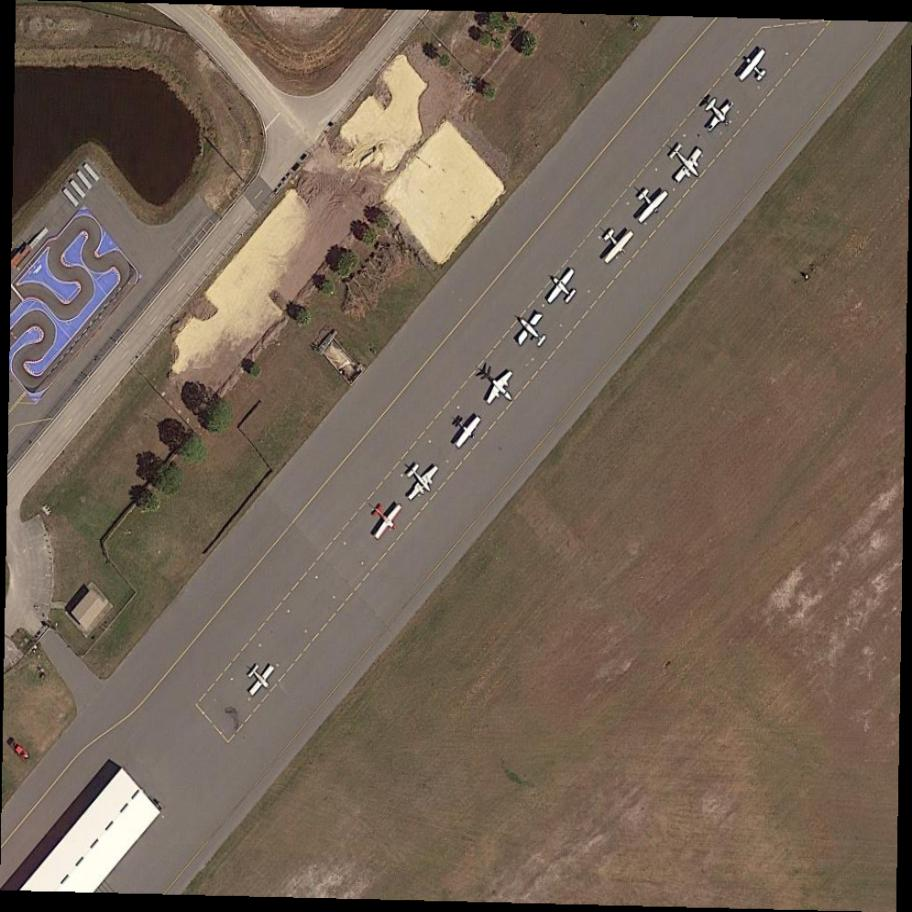plane: (657, 134, 716, 193), (391, 451, 449, 509), (472, 360, 529, 417), (505, 303, 558, 358), (589, 218, 642, 272), (360, 490, 412, 545), (624, 176, 676, 229), (538, 261, 589, 315), (694, 88, 745, 141), (731, 41, 781, 92), (237, 653, 286, 705), (442, 403, 489, 453)
small-vehicle: (11, 743, 32, 765)
